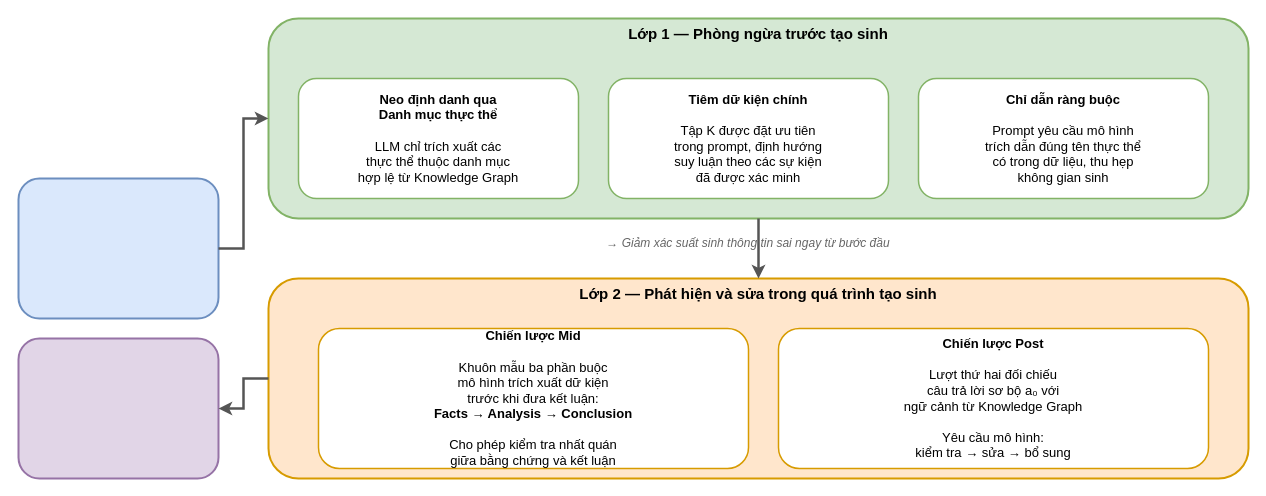
Some shapes in this 1266 by 496 pixel diagram are drawn without their labels. The centre of each missing label's shape, as x and y in pixels:
Đầu ra a Câu trả lời đã kiểm soát: point 118,408
Đầu vào (C, K, q) Ngữ cảnh + Dữ kiện chính + Câu hỏi: point 118,248
